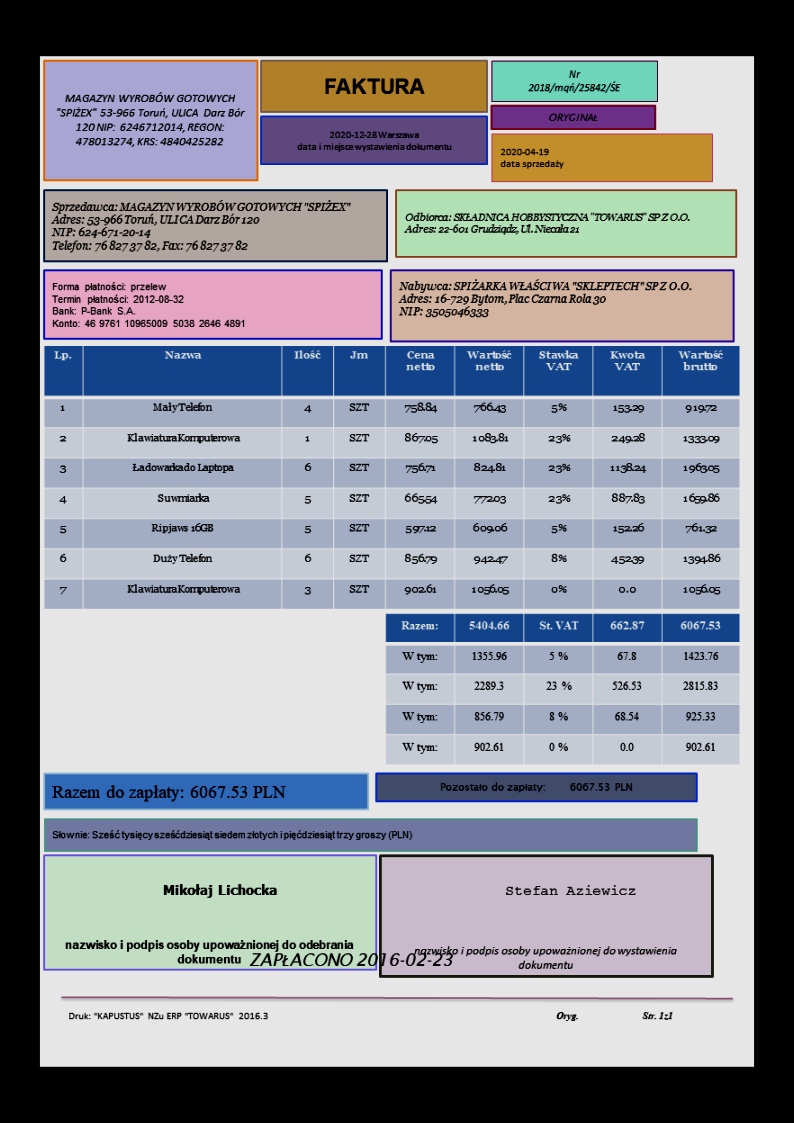Table: (42, 343, 742, 611), (384, 612, 740, 766)
TextBox: (50, 196, 354, 256), (397, 276, 695, 321), (54, 89, 247, 150), (50, 278, 248, 331), (402, 208, 690, 236), (61, 939, 353, 966), (413, 942, 679, 971), (51, 826, 413, 843), (49, 781, 288, 804), (249, 949, 458, 973), (294, 127, 455, 155), (65, 1007, 270, 1024), (438, 780, 635, 795), (526, 68, 621, 97), (160, 878, 280, 899), (321, 76, 428, 98), (503, 882, 638, 899), (497, 143, 565, 175), (554, 1007, 676, 1022), (546, 109, 600, 125)
